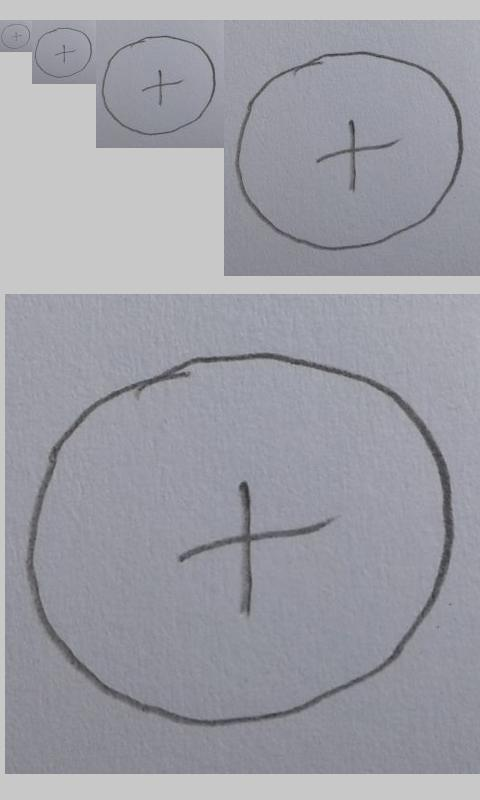button: (25, 350, 457, 731), (235, 49, 464, 252), (101, 33, 218, 137), (34, 26, 93, 79), (1, 23, 31, 50)
